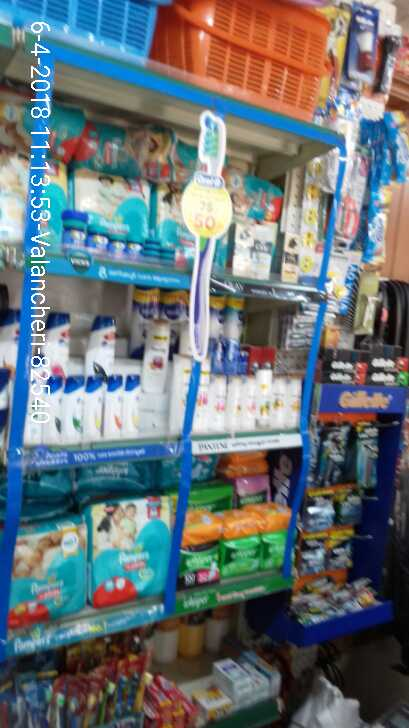gillete: (289, 576, 377, 622), (349, 2, 373, 82), (316, 430, 350, 481), (365, 208, 392, 264), (304, 489, 335, 534), (357, 423, 380, 483), (301, 538, 326, 573), (338, 489, 361, 527), (331, 537, 355, 570), (395, 129, 409, 177), (383, 127, 394, 185)
